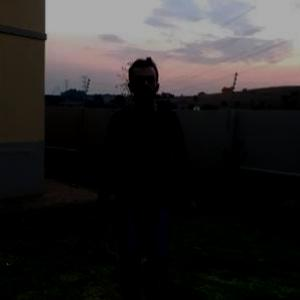follow: (105, 54, 187, 299)
